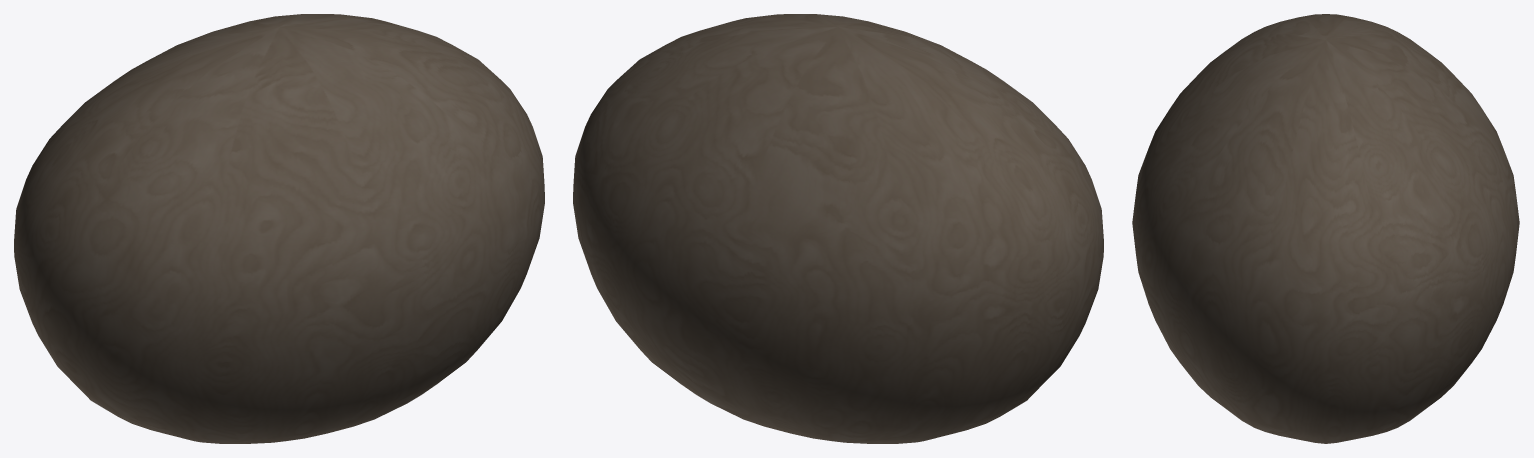
File: truffe_renard.fbx
The picture shows the model from 3 angles, left to right: view 1: azimuth 30°, elevation 25°; view 2: azimuth 150°, elevation 25°; view 3: azimuth 270°, elevation 25°; orthographic projection. The views are drawn at different scales.
Parts seen in each view (by area): view 1: truffe renard; view 2: truffe renard; view 3: truffe renard.
Boxes of the visible parts, box(x1,y1,x2,y2) form: truffe renard: box(14, 14, 544, 443); truffe renard: box(573, 14, 1103, 443); truffe renard: box(1132, 14, 1519, 443).
Size of the model in its own units: 231 by 179 by 169.
1 material, 1 textured.
